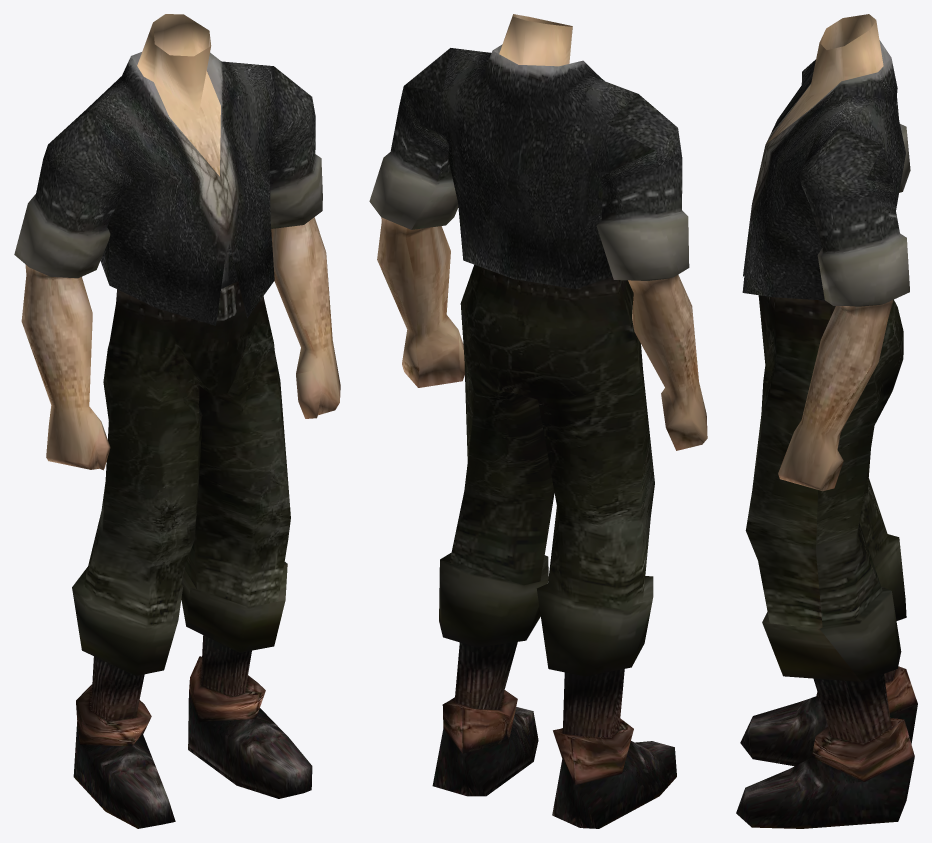
File: KM_BAU_L_JORN.glb
3 views of the same model, side by side, from view 1: azimuth 30°, elevation 25°; view 2: azimuth 150°, elevation 25°; view 3: azimuth 270°, elevation 25° (orthographic). The views are drawn at different scales.
Parts seen in each view (by area): view 1: KM_BAU_L_JORN; view 2: KM_BAU_L_JORN; view 3: KM_BAU_L_JORN.
Boxes of the visible parts, left/top/right/bottom form: KM_BAU_L_JORN: left=14, top=14, right=340, bottom=828; KM_BAU_L_JORN: left=369, top=14, right=707, bottom=828; KM_BAU_L_JORN: left=736, top=14, right=917, bottom=828.
Size of the model in its own units: 0.6885 by 1.68 by 0.3618.
Materials: 2 (2 with a texture image).
